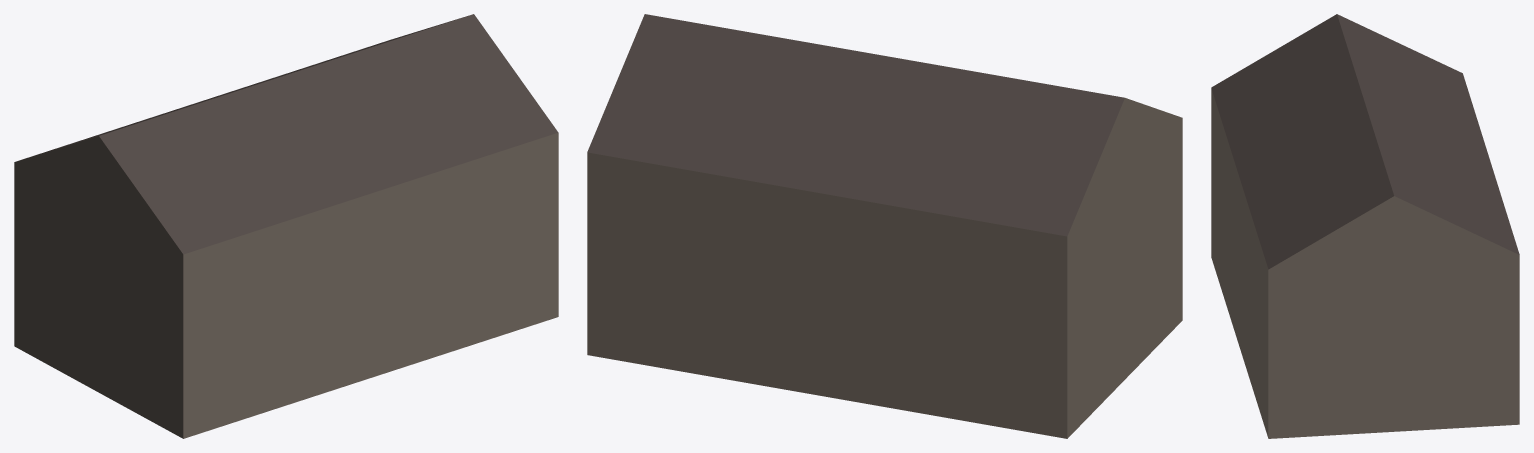
The picture shows the model from 3 angles, left to right: view 1: azimuth 30°, elevation 25°; view 2: azimuth 150°, elevation 25°; view 3: azimuth 270°, elevation 25°; orthographic projection. The views are drawn at different scales.
Parts seen in each view (by area): view 1: HP-w389701924; view 2: HP-w389701924; view 3: HP-w389701924.
Boxes of the visible parts, left/top/right/bottom form: HP-w389701924: left=14, top=14, right=558, bottom=438; HP-w389701924: left=587, top=14, right=1182, bottom=438; HP-w389701924: left=1211, top=14, right=1519, bottom=438.
Bounding box in the file's own units: 14.92 × 8.35 × 9.91.
